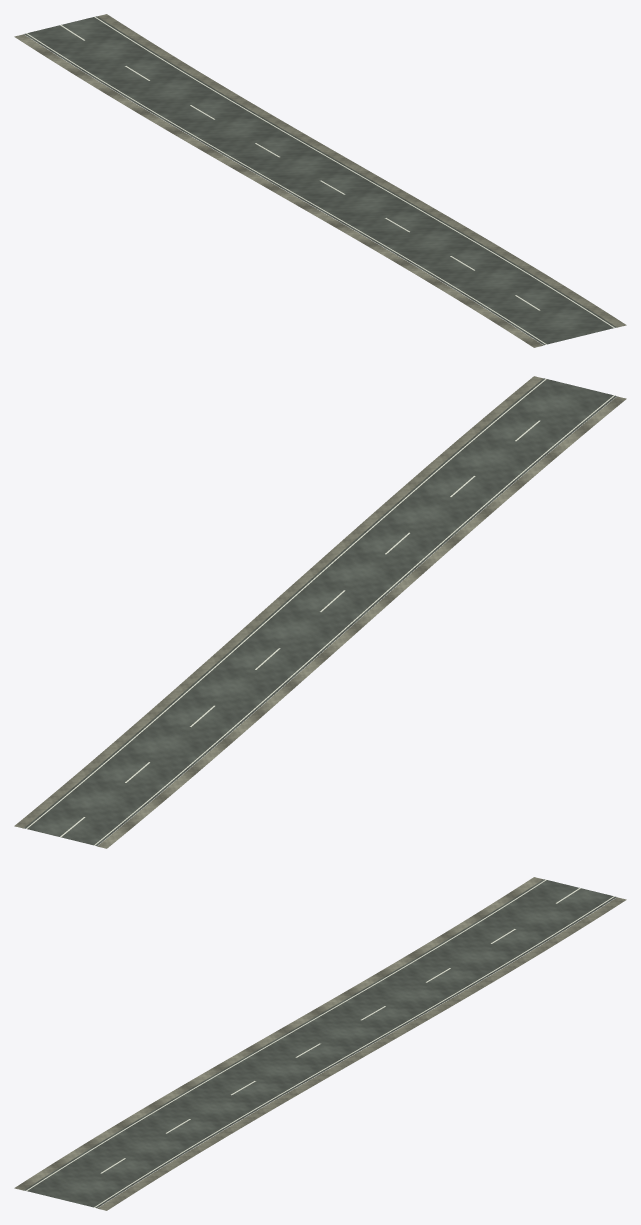
File: road_countryside_hill_64m.glb
3 views of the same model, one above another, from view 1: azimuth 30°, elevation 25°; view 2: azimuth 150°, elevation 25°; view 3: azimuth 330°, elevation 25° (orthographic).
Visible parts, largest first — view 1: road_surface, static_gravel, static_road_marking; view 2: road_surface, static_gravel, static_road_marking; view 3: road_surface, static_gravel, static_road_marking.
Part boxes in pixels (x1,y1,x2,y2): road_surface: (24,16,616,345); static_gravel: (14,14,626,347); static_road_marking: (26,16,614,344); road_surface: (24,378,616,845); static_gravel: (14,376,626,848); static_road_marking: (26,378,614,845); road_surface: (24,879,616,1208); static_gravel: (14,877,626,1210); static_road_marking: (26,879,614,1207).
Size of the model in its own units: 6.6 by 4.74 by 64.
Materials: 3 (2 with a texture image).
